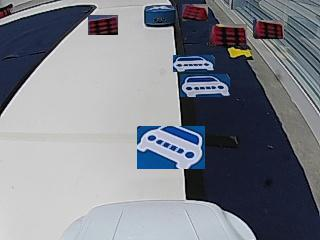prop: (144, 5, 175, 27)
